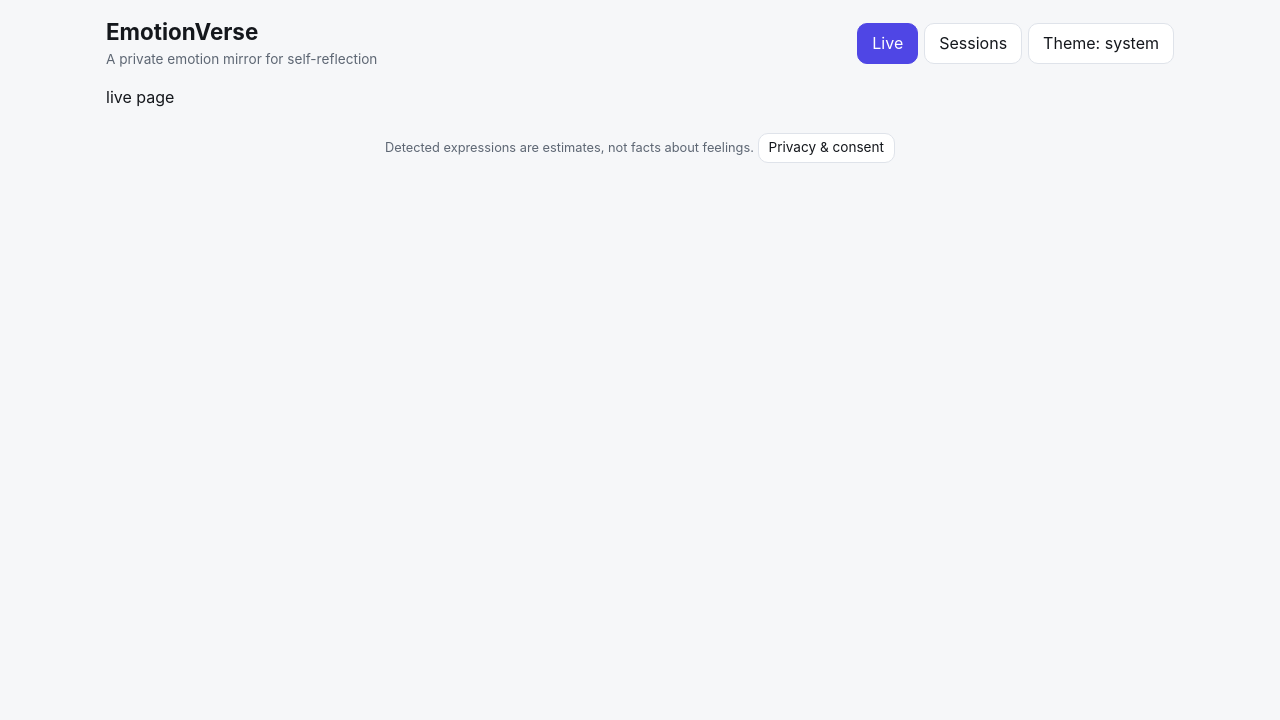
Scenario: revoking consent returns to the consent screen
This screenshot has width=1280, height=720.
Click the button "Privacy & consent": {"x": 826, "y": 148} [758,133,895,163]
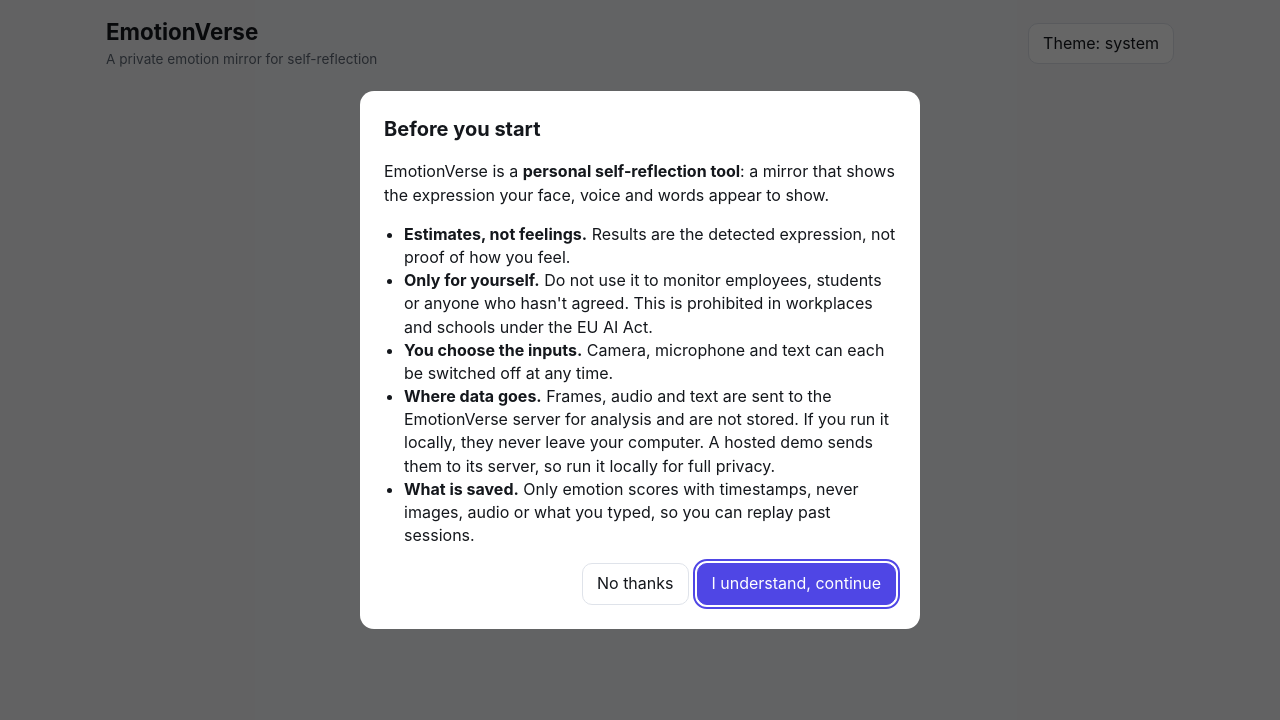
Result: the heading "Before you start" is shown at [384,117,540,141]
